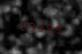nine: (45, 20, 53, 35), (54, 21, 62, 35)
three: (27, 18, 35, 33), (36, 19, 44, 34)
two: (18, 18, 26, 32)
